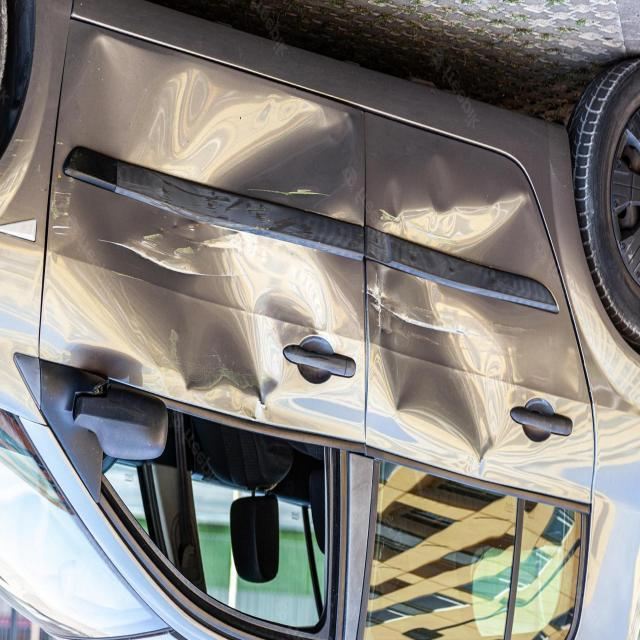dent: (80, 14, 593, 481)
